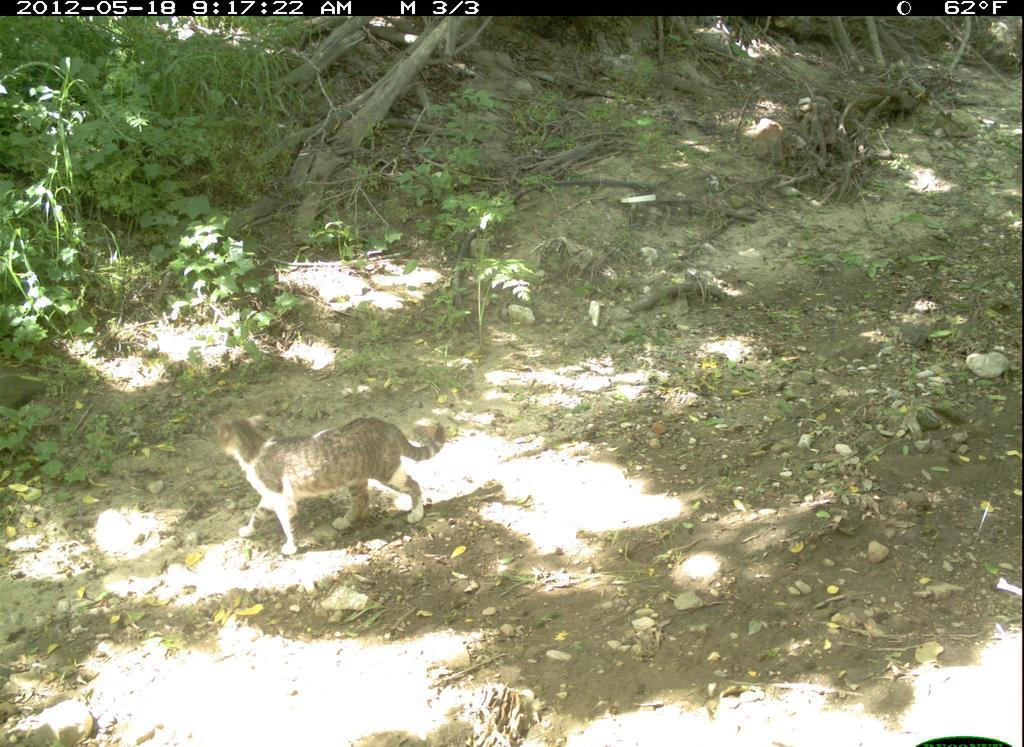cat: (205, 399, 474, 569)
